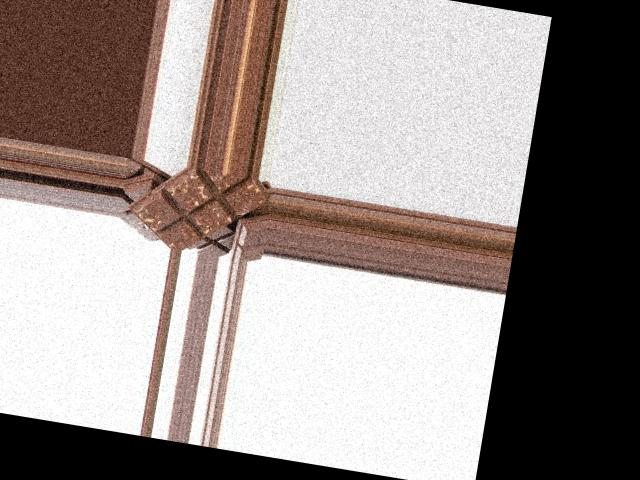chocolate: (132, 159, 270, 262)
